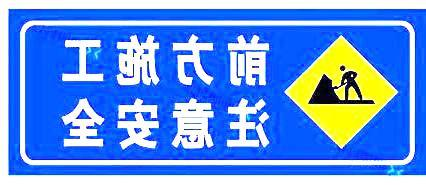sign: (13, 16, 419, 170)
